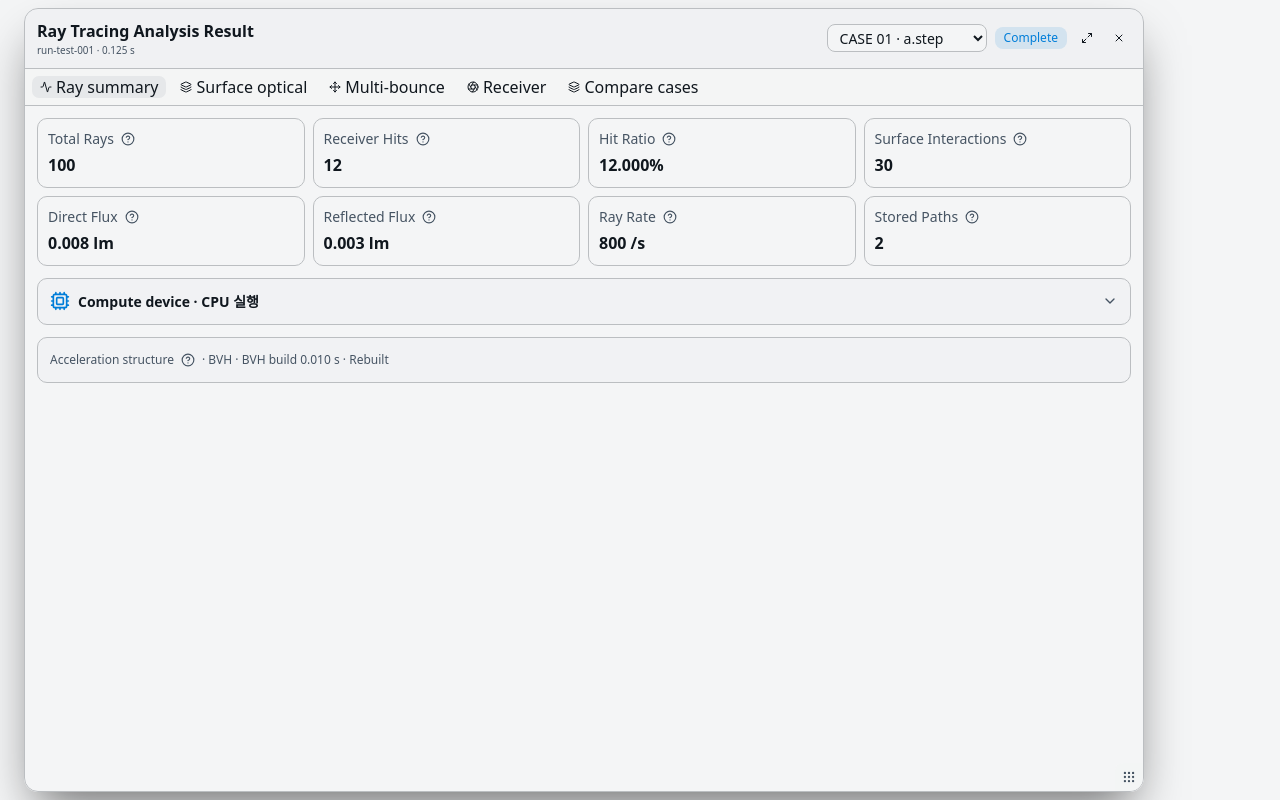
Test case: Step 11 result UI › switches the detailed report with the header case selector
Press the mouse on the dropdown named "Report active case" at (907, 38), box x1=827 y1=24 x2=987 y2=52
Select "CASE 02 · b.step" in the dropdown named "Report active case" at (907, 38), box x1=827 y1=24 x2=987 y2=52
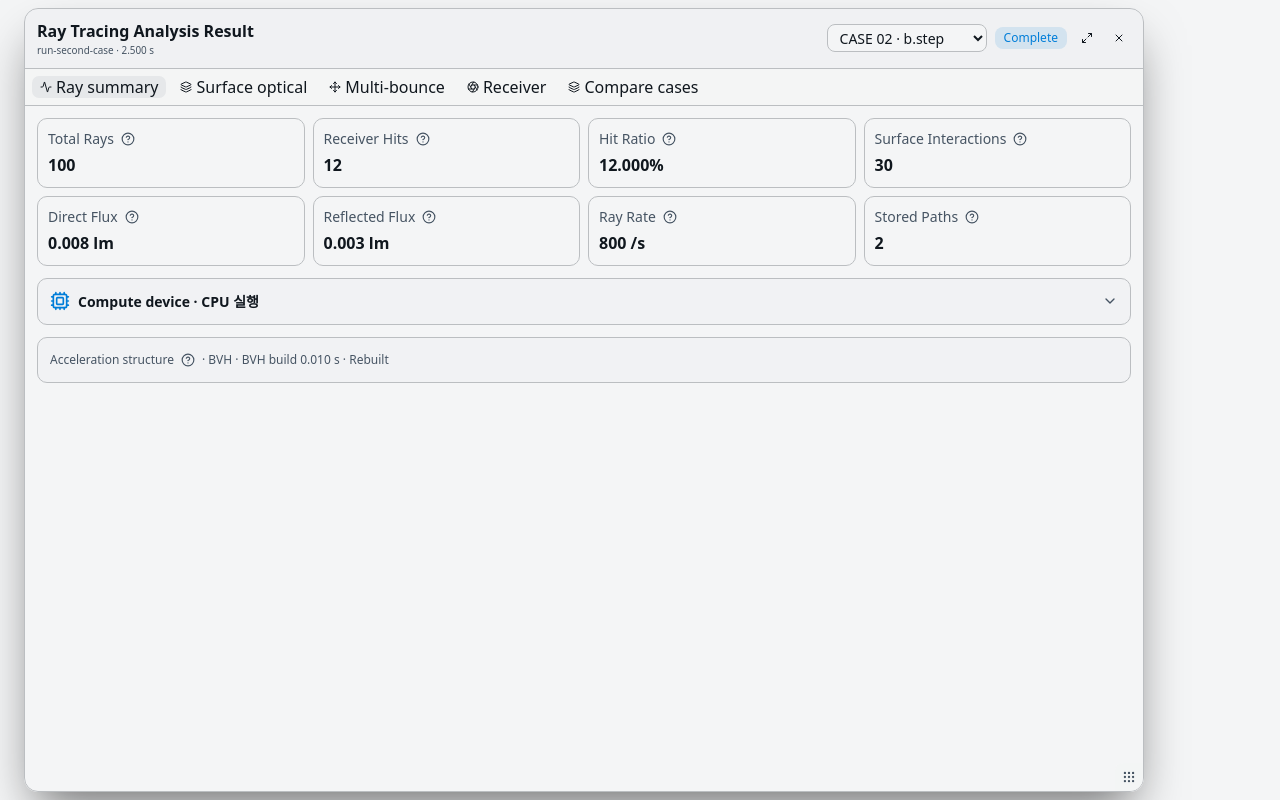
Result: the text "run-second-case · 2.500 s" is shown at x1=37 y1=43 x2=154 y2=57
